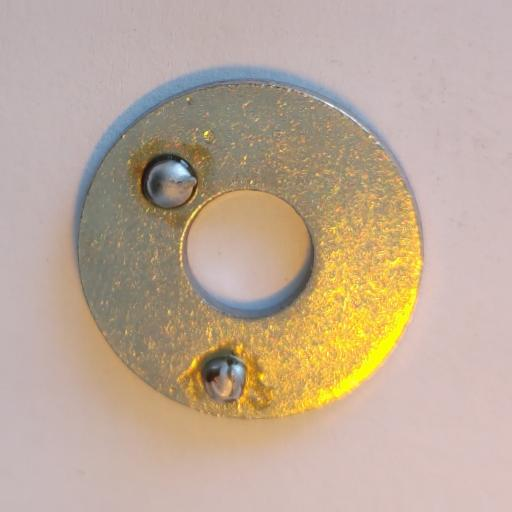excess_material: (140, 154, 199, 211), (200, 354, 247, 403)
